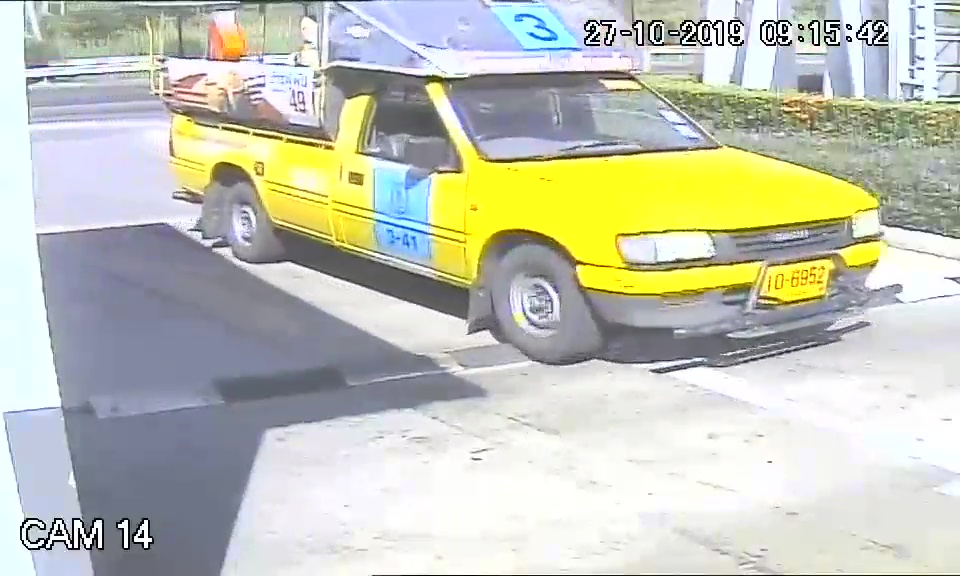pickup: (163, 51, 903, 370)
